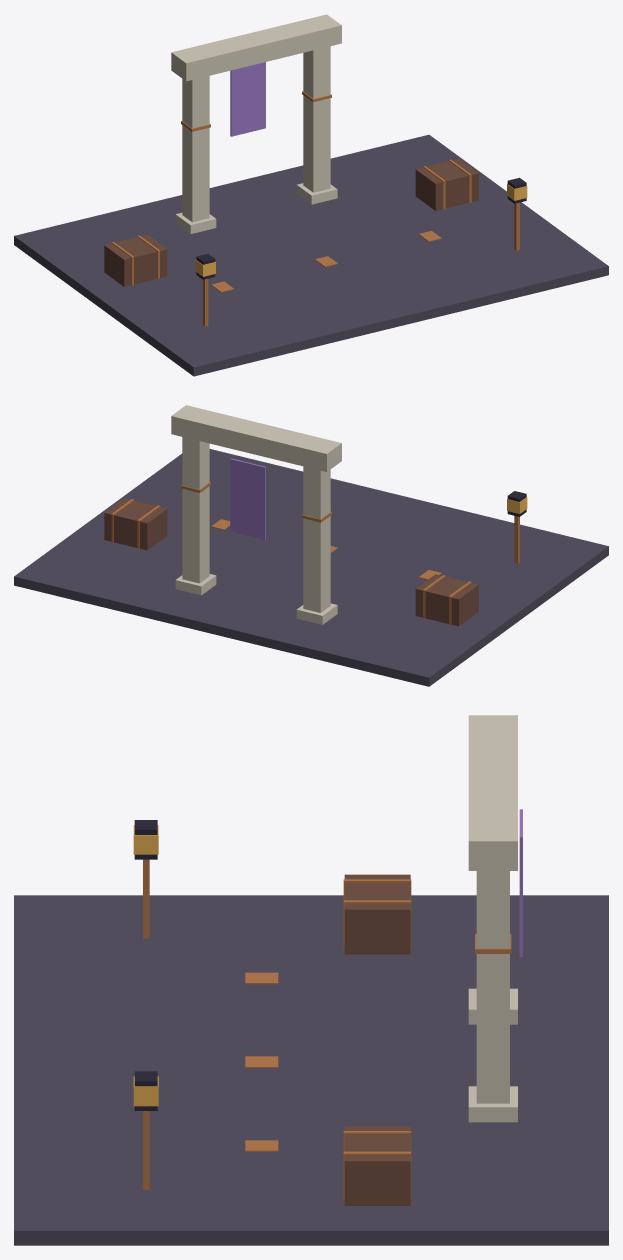
The model's file is caravan_checkpoint.glb.
3 views of the same model, one above another, from view 1: azimuth 30°, elevation 25°; view 2: azimuth 150°, elevation 25°; view 3: azimuth 270°, elevation 25° (orthographic). The views are drawn at different scales.
Visible parts, largest first — view 1: caravan_checkpoint; view 2: caravan_checkpoint; view 3: caravan_checkpoint.
Part boxes in pixels (x1=…): caravan_checkpoint: x1=14, y1=14, x2=608, y2=376; caravan_checkpoint: x1=14, y1=405, x2=608, y2=686; caravan_checkpoint: x1=14, y1=715, x2=608, y2=1245.
Size of the model in its own units: 48 by 20 by 36.
